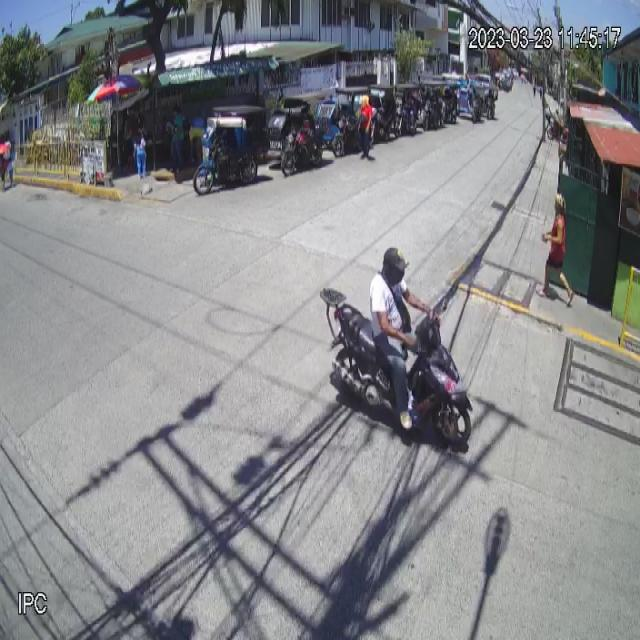Motorcycle: (318, 287, 474, 446)
